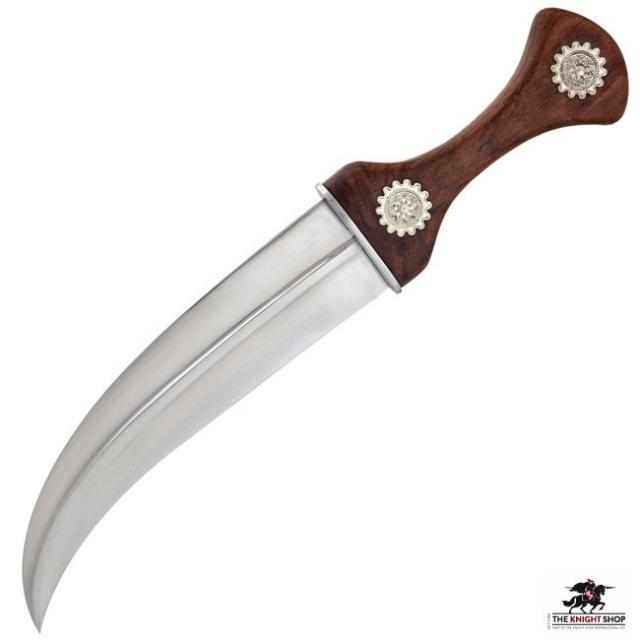short sword: (13, 10, 626, 634)
